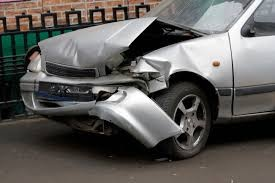Broken-glass: (97, 57, 149, 79)
Dent: (31, 23, 183, 122)
